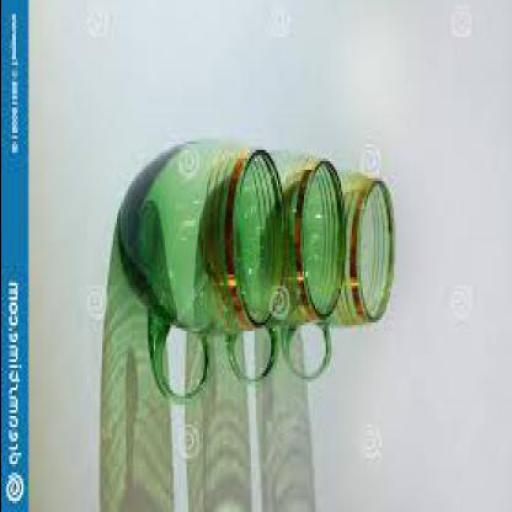glass: (119, 144, 288, 405), (224, 158, 347, 388), (284, 172, 395, 382)
